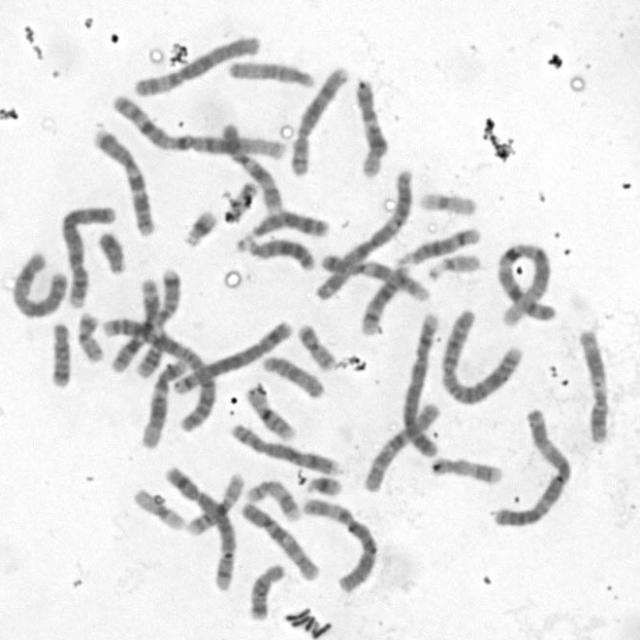A1: (110, 90, 290, 162), (492, 237, 558, 326)
A2: (97, 312, 219, 434), (436, 303, 526, 407)
A3: (310, 163, 418, 303), (486, 404, 574, 530)
B4: (56, 200, 120, 310), (398, 310, 442, 460)
B5: (161, 461, 239, 592), (169, 318, 293, 398)
C10: (358, 397, 442, 494), (237, 498, 322, 582)
C11: (573, 324, 615, 446), (135, 279, 167, 379)
C12: (136, 354, 188, 451), (351, 75, 391, 179)
C6: (127, 28, 263, 98), (298, 495, 378, 594)
C7: (106, 263, 183, 374), (87, 122, 159, 238)
C8: (284, 59, 353, 178), (227, 420, 342, 476)
C9: (316, 248, 434, 303), (218, 119, 285, 214)
D13: (235, 231, 319, 273), (238, 208, 330, 242)
D14: (356, 260, 414, 337), (391, 222, 483, 269)
D15: (258, 350, 327, 399), (225, 56, 317, 90)
E16: (184, 468, 248, 538), (241, 381, 297, 441)
E17: (244, 474, 304, 521), (427, 452, 504, 487)
E18: (245, 560, 286, 622), (46, 316, 74, 389)
F19: (129, 482, 189, 532), (415, 187, 479, 217)
F20: (293, 319, 338, 371), (72, 307, 106, 364)
G21: (179, 204, 219, 250), (300, 469, 346, 497)
G22: (423, 250, 481, 282), (224, 179, 259, 222)
X: (8, 244, 71, 320)
Y: (93, 225, 129, 276)
